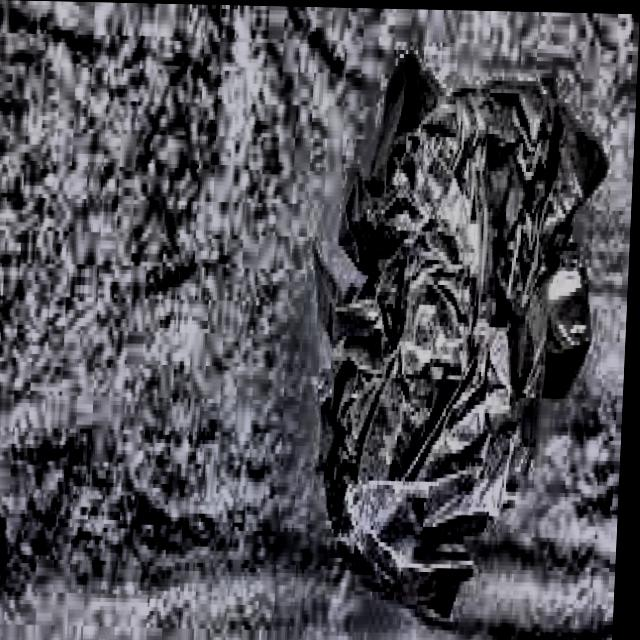Foil: (303, 49, 617, 640)
